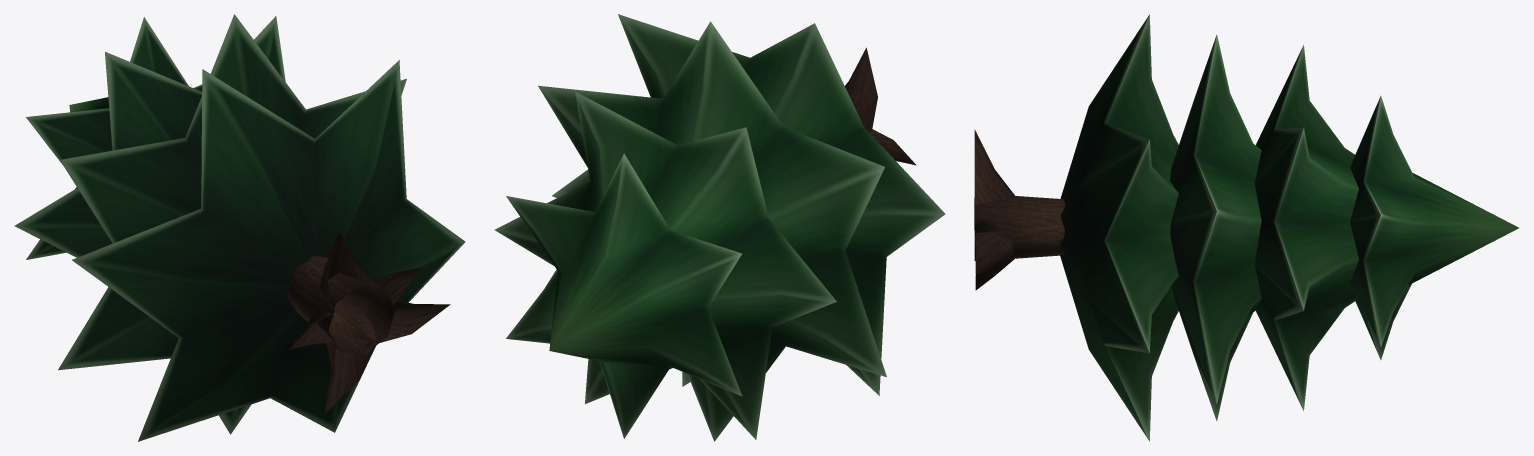
The model's file is Pine_Tree_C.fbx.
The picture shows the model from 3 angles, left to right: view 1: azimuth 30°, elevation 25°; view 2: azimuth 150°, elevation 25°; view 3: azimuth 270°, elevation 25°; orthographic projection. The views are drawn at different scales.
Parts seen in each view (by area): view 1: Pine_Tree_C; view 2: Pine_Tree_C; view 3: Pine_Tree_C.
Boxes of the visible parts, box(x1,y1,x2,y2) form: Pine_Tree_C: box(14, 14, 465, 441); Pine_Tree_C: box(494, 14, 945, 441); Pine_Tree_C: box(974, 14, 1518, 441).
Size of the model in its own units: 74.44 by 75.76 by 96.08.
